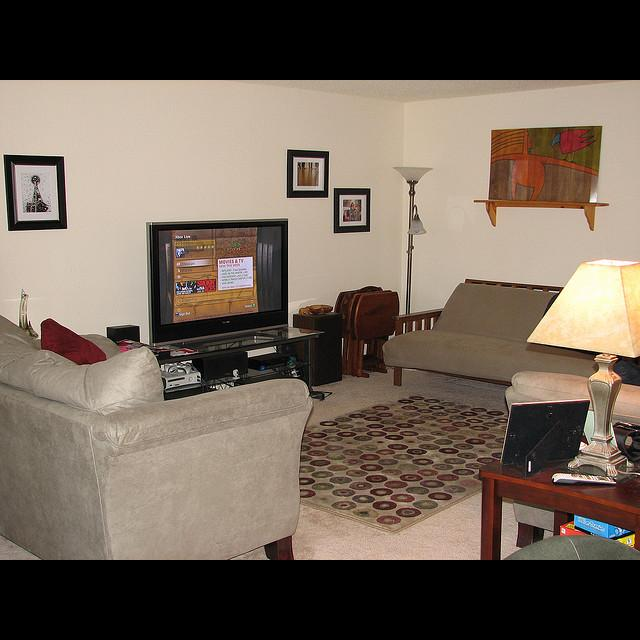Flat-Panel-TV: (148, 218, 291, 346)
TV-Remote-Control: (551, 473, 617, 485)
